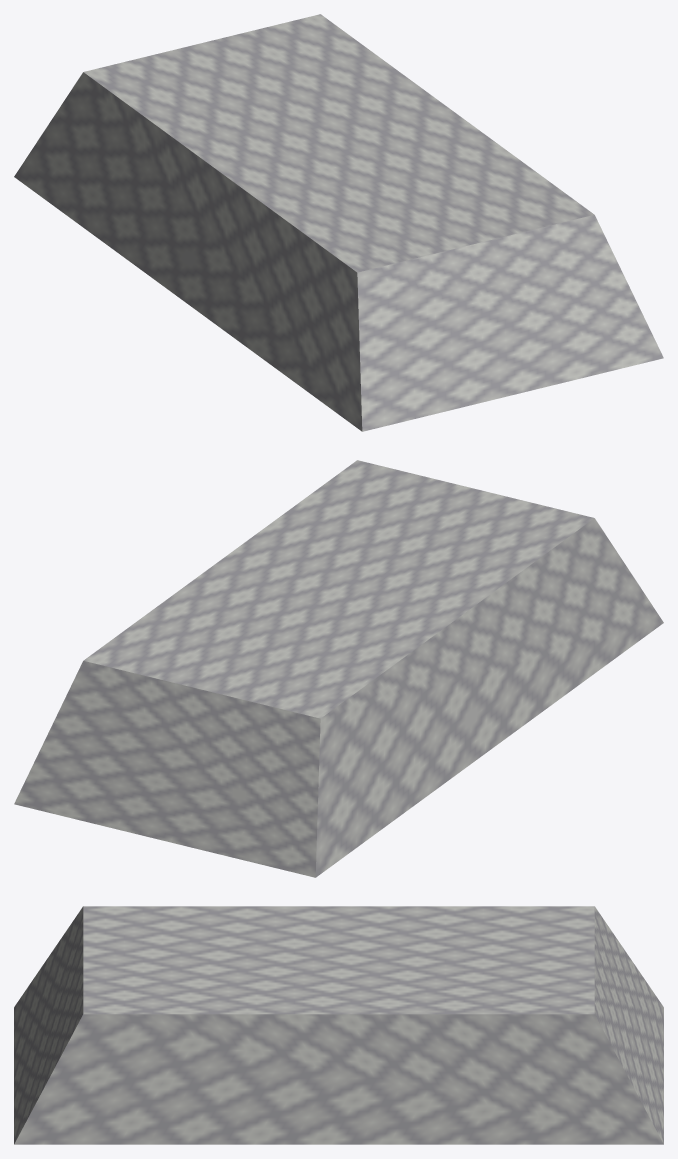
The model's file is altar.glb.
The picture shows the model from 3 angles, top to bottom: view 1: azimuth 30°, elevation 25°; view 2: azimuth 150°, elevation 25°; view 3: azimuth 270°, elevation 25°; orthographic projection. The views are drawn at different scales.
Visible parts, largest first — view 1: altar; view 2: altar; view 3: altar.
Boxes of the visible parts, x1,y1,x2,y2 form: altar: (14,14,663,431); altar: (14,460,663,877); altar: (14,906,663,1144).
Size of the model in its own units: 2.54 by 1 by 5.08.
Materials: 1 (1 with a texture image).
